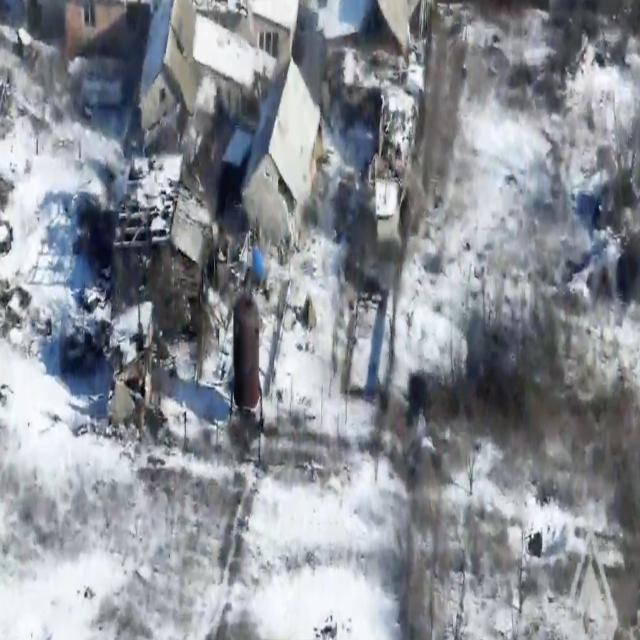vehicle: (297, 285, 321, 333)
